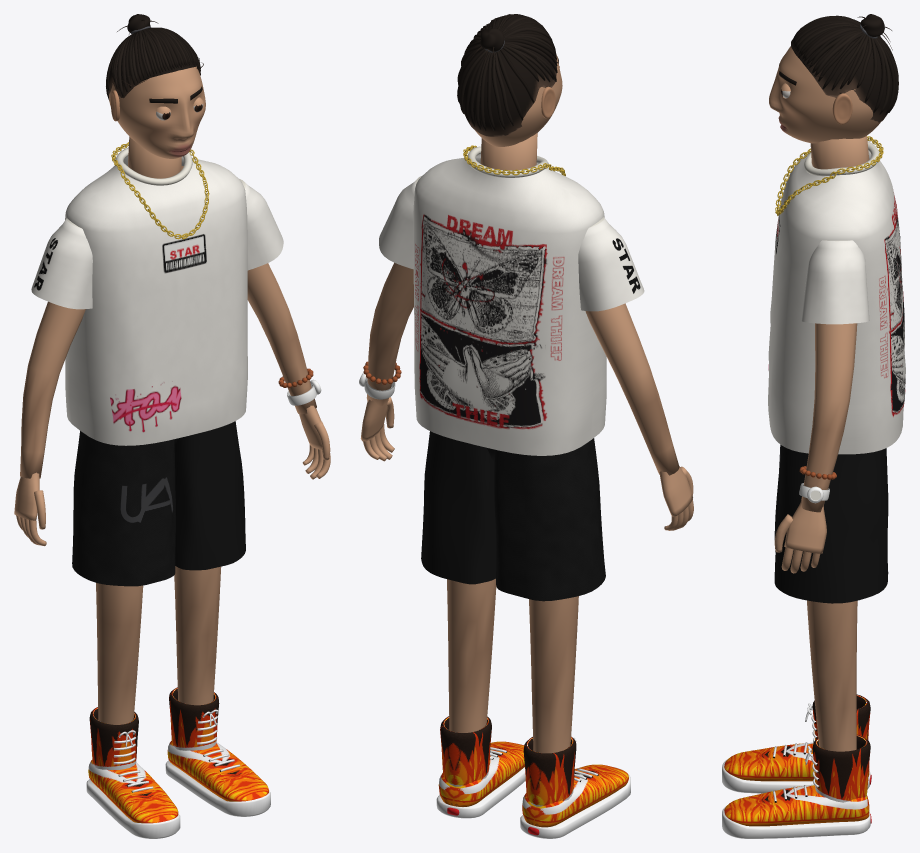
File: toma-hero.glb
3 renders of one model, left to right at view 1: azimuth 30°, elevation 25°; view 2: azimuth 150°, elevation 25°; view 3: azimuth 270°, elevation 25°, orthographic. The views are drawn at different scales.
Parts seen in each view (by area): view 1: shirt, Body, shorts, shoes, Head, hair, chain; view 2: shirt, Body, shorts, shoes, hair, Head; view 3: shirt, Body, shoes, shorts, hair, Head, chain, bun, watch.
Boxes of the visible parts, x1,y1,x2,y2 form: shirt: [31, 147, 283, 445]; Body: [14, 136, 330, 724]; shorts: [72, 421, 245, 586]; shoes: [86, 687, 270, 838]; Head: [109, 66, 205, 158]; hair: [106, 19, 203, 100]; chain: [111, 142, 209, 239]; shirt: [379, 146, 644, 455]; Body: [360, 133, 693, 753]; shorts: [421, 431, 605, 601]; shoes: [436, 716, 630, 838]; hair: [457, 14, 558, 136]; Head: [475, 54, 562, 146]; shirt: [768, 141, 905, 454]; Body: [774, 136, 869, 751]; shoes: [722, 694, 871, 838]; shorts: [774, 445, 888, 603]; hair: [791, 15, 898, 122]; Head: [769, 46, 880, 143]; chain: [775, 136, 883, 215]; bun: [860, 14, 884, 38]; watch: [799, 483, 829, 503].
Bounding box in the file's own units: 0.7152 × 1.7 × 0.359.
Materials: 7 (3 with a texture image).
